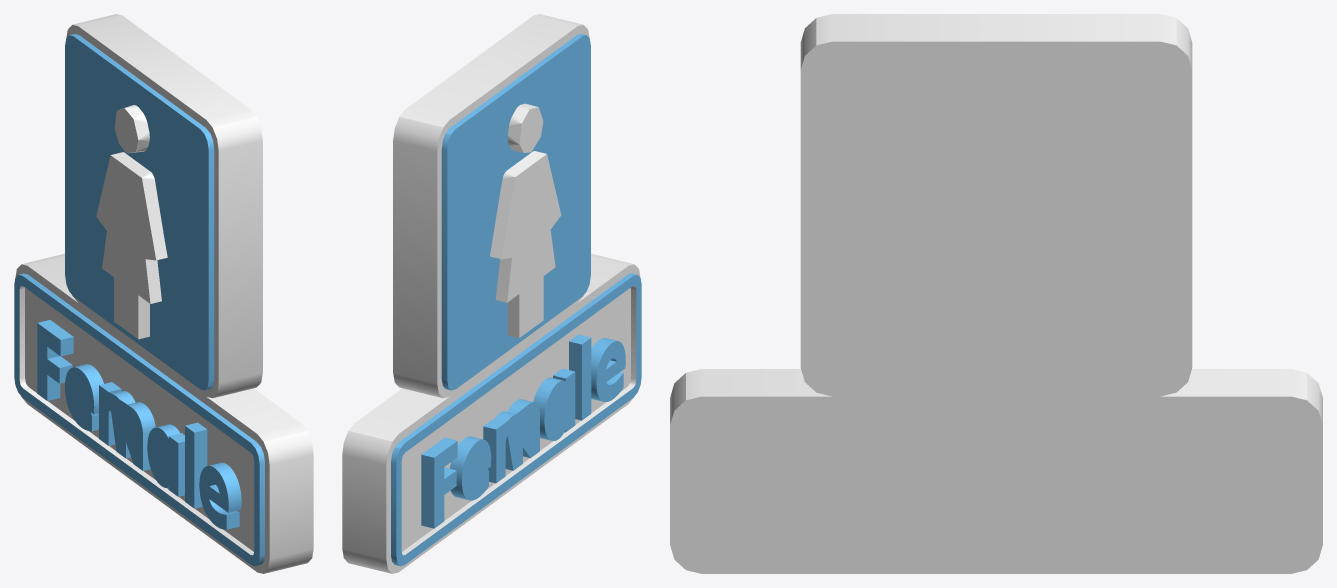
File: Props_Sign_Female.fbx
3 views of the same model, side by side, from view 1: azimuth 30°, elevation 25°; view 2: azimuth 150°, elevation 25°; view 3: azimuth 270°, elevation 25° (orthographic). The views are drawn at different scales.
Visible parts, largest first — view 1: Props_Sign_Female; view 2: Props_Sign_Female; view 3: Props_Sign_Female.
Part boxes in pixels (x1,y1,x2,y2): Props_Sign_Female: (14,14,313,573); Props_Sign_Female: (342,14,641,573); Props_Sign_Female: (670,14,1322,573).
Bounding box in the file's own units: 13.86 × 90 × 100.
